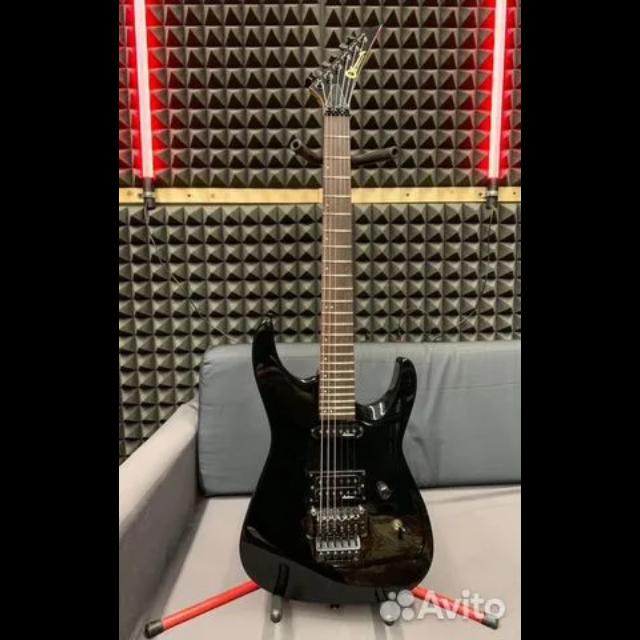Electric-Guitar: (242, 30, 434, 602)
